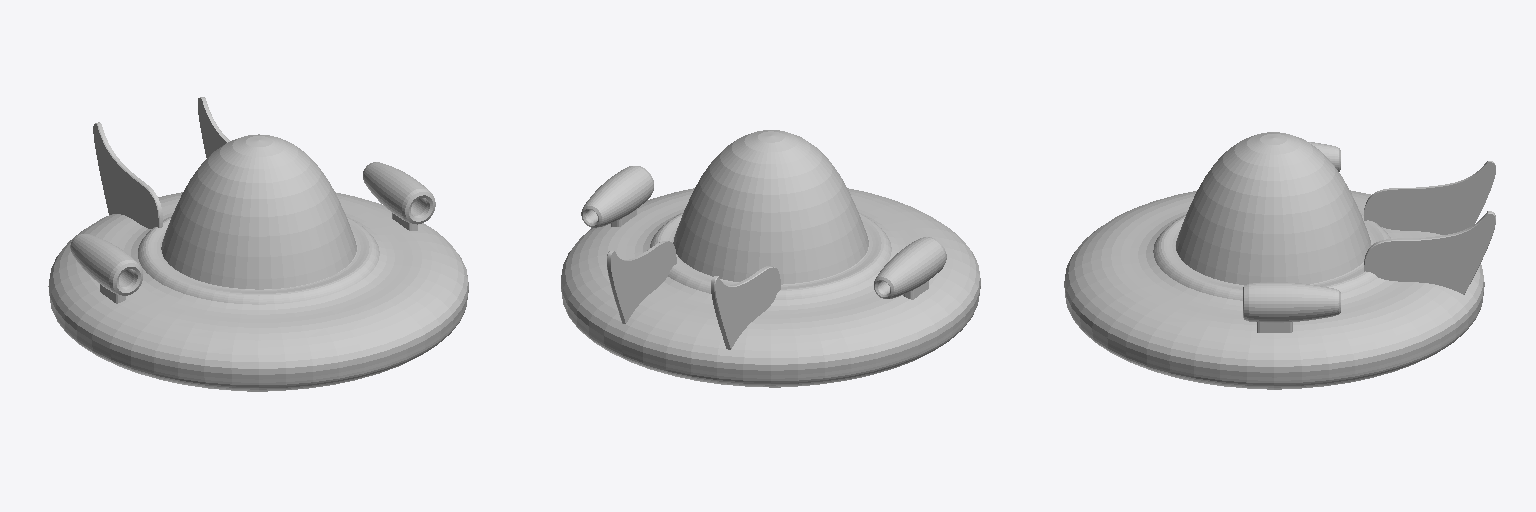
Rendered from Retro Style Toy UFO.obj.
The picture shows the model from 3 angles: view 1: azimuth 30°, elevation 25°; view 2: azimuth 150°, elevation 25°; view 3: azimuth 270°, elevation 25°; orthographic projection.
Visible parts, largest first — view 1: Line01, Sphere01, Line03, Tube02, Tube01, Line02; view 2: Line01, Sphere01, Line03, Line02, Tube02, Tube01; view 3: Line01, Sphere01, Line02, Line03, Tube01.
Part boxes in pixels (bbox=[...]): Line01: bbox=[48, 192, 468, 390]; Sphere01: bbox=[161, 134, 356, 289]; Line03: bbox=[93, 122, 162, 228]; Tube02: bbox=[70, 234, 142, 295]; Tube01: bbox=[363, 162, 435, 224]; Line02: bbox=[198, 97, 229, 157]; Line01: bbox=[561, 188, 980, 386]; Sphere01: bbox=[673, 130, 868, 284]; Line03: bbox=[711, 266, 780, 349]; Line02: bbox=[607, 241, 676, 323]; Tube02: bbox=[874, 237, 946, 298]; Tube01: bbox=[581, 166, 653, 227]; Line01: bbox=[1064, 190, 1484, 388]; Sphere01: bbox=[1176, 132, 1371, 284]; Line02: bbox=[1364, 211, 1495, 294]; Line03: bbox=[1364, 161, 1495, 234]; Tube01: bbox=[1243, 282, 1340, 322].
Size of the model in its own units: 513 by 318 by 527.